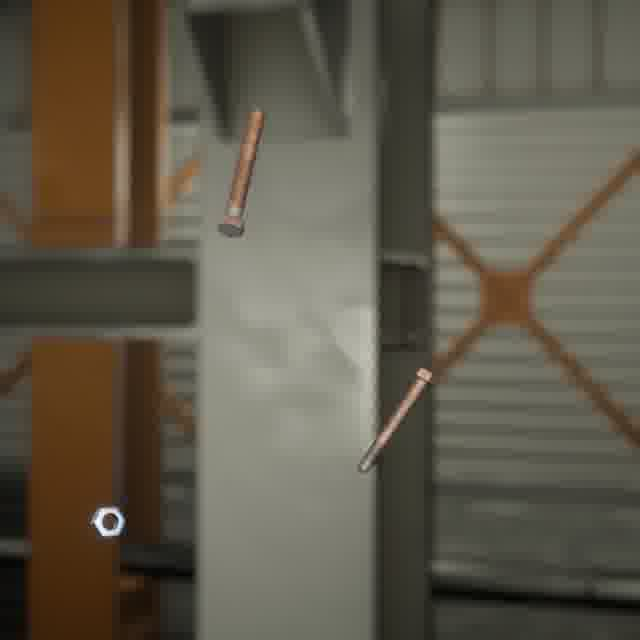bolt: (352, 361, 442, 478), (213, 104, 269, 241)
nut: (86, 502, 130, 541)
